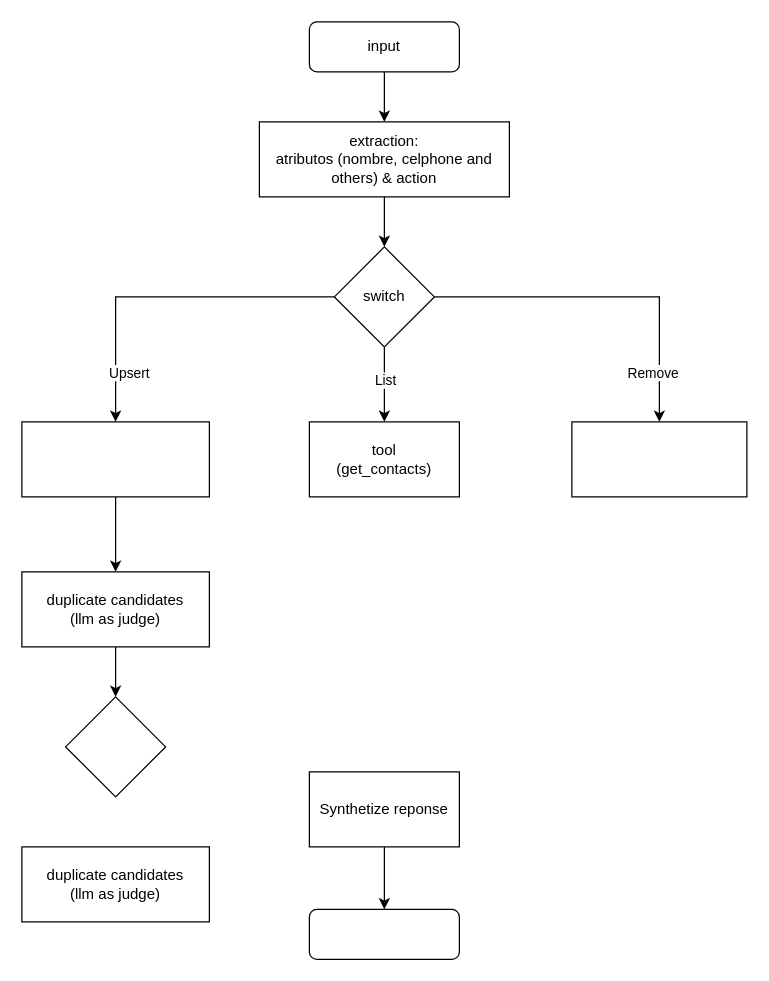
This 769x981 diagram has some shape labels left out. The centre of each missing label's shape, as x and y in pixels:
"output" belongs at point (383, 933).
"Posible candidates?" belongs at point (115, 746).
"tool (list_current_contacts)" belongs at point (115, 459).
"tool (remove_contact)" belongs at point (659, 459).
